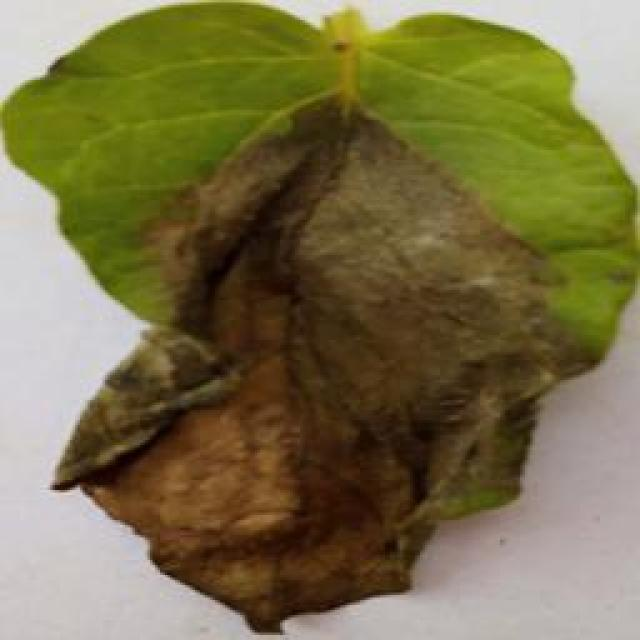Potato_Late_Blight: (0, 12, 628, 640)
